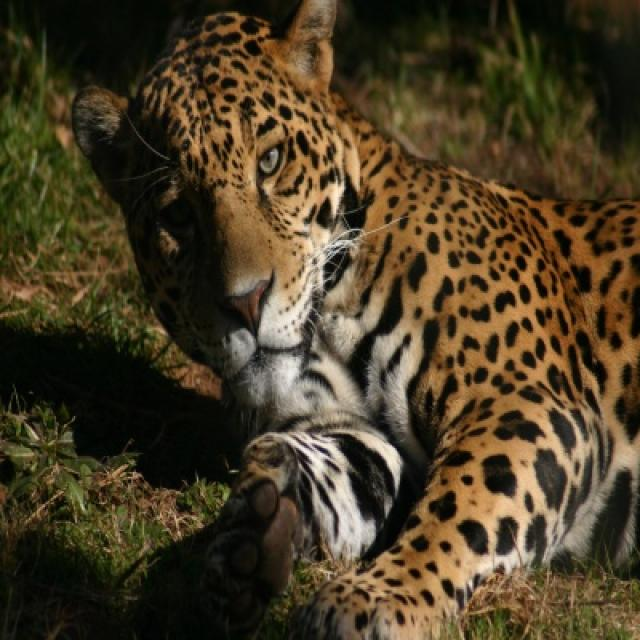Jaguar: (69, 0, 638, 637)
